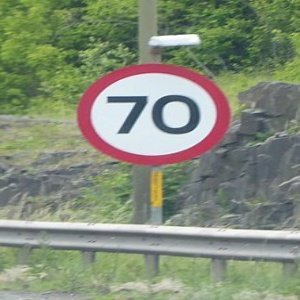70 speed: (77, 65, 232, 167)
